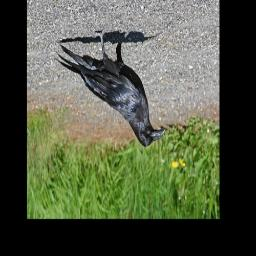Crow: (52, 24, 166, 148)
